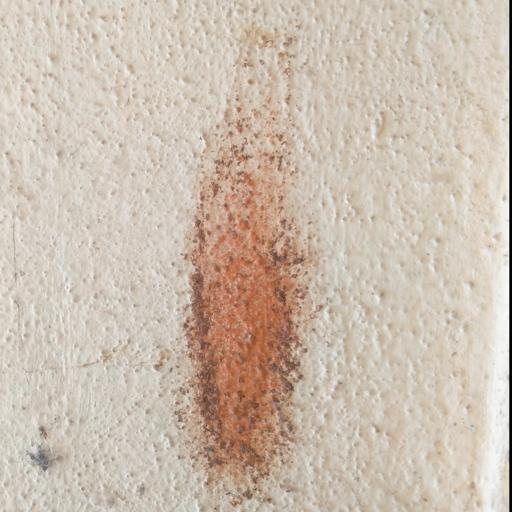stain: (155, 25, 314, 489)
